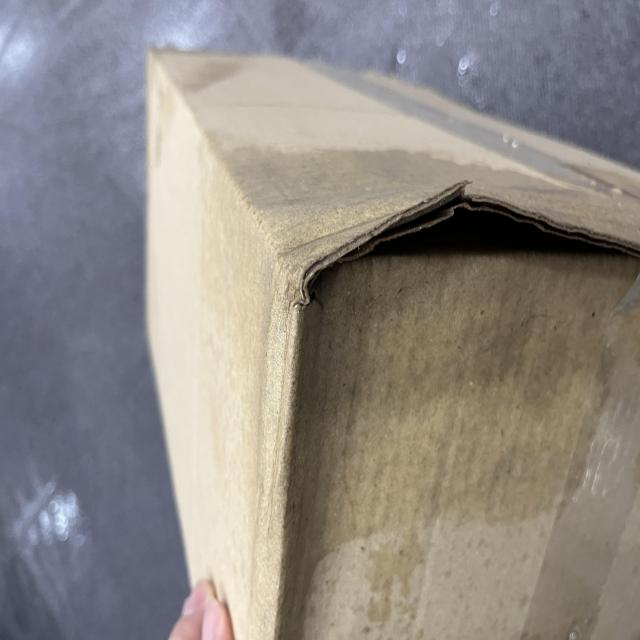wet: (68, 263, 366, 640)
